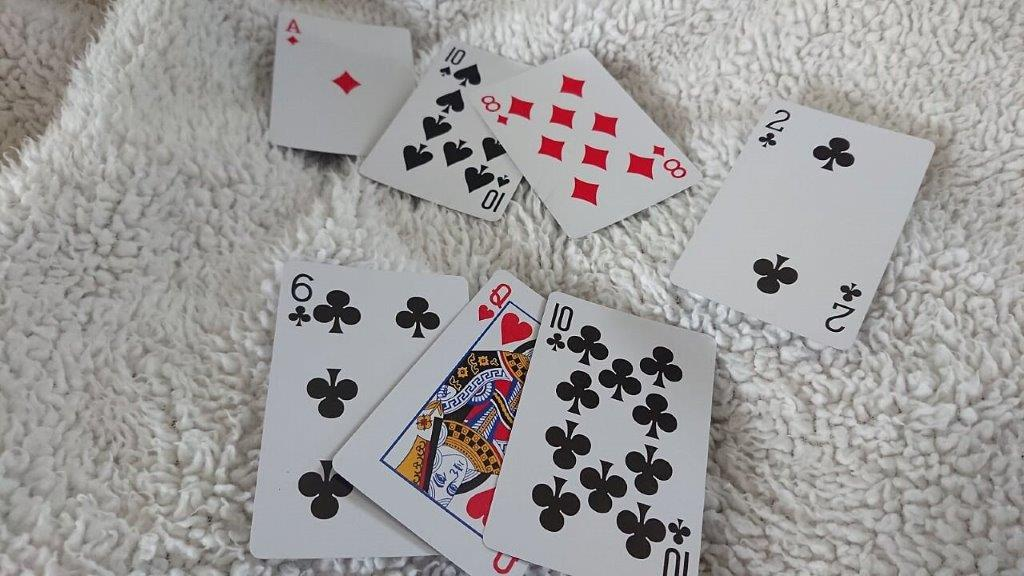10C: (543, 295, 580, 361)
10S: (436, 43, 467, 81)
2C: (753, 105, 796, 154)
6C: (284, 264, 323, 334)
8D: (477, 87, 511, 130)
AD: (282, 12, 304, 51)
QH: (474, 275, 516, 333)
